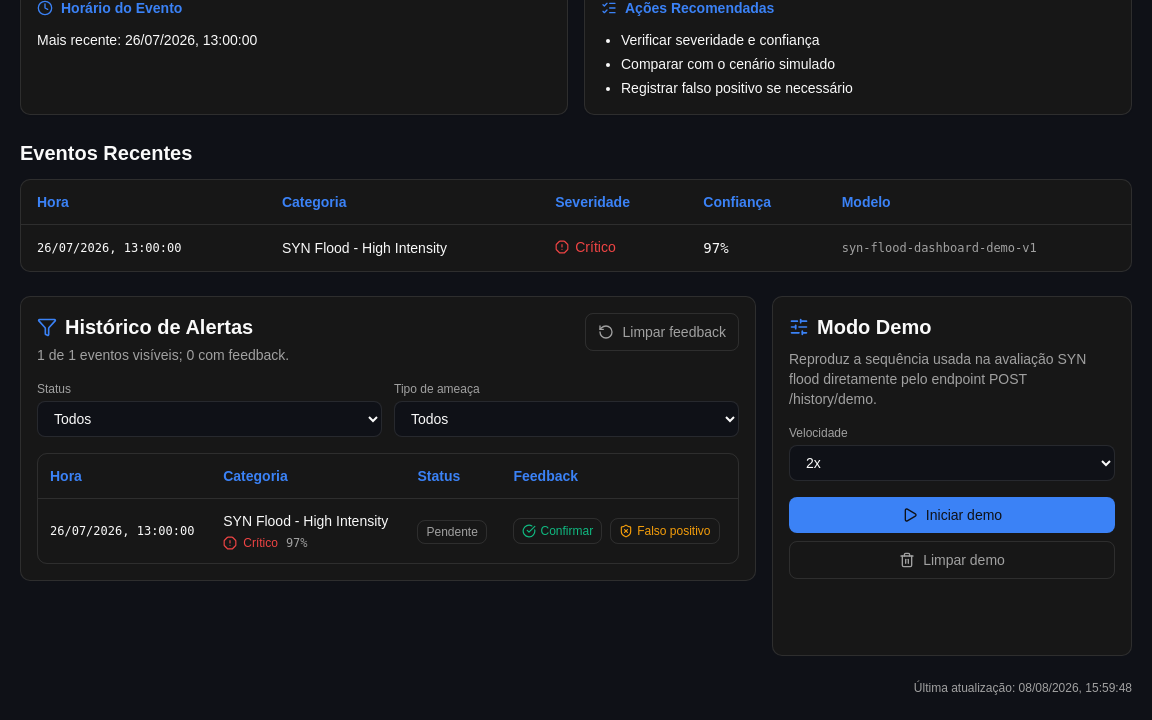
it: App › permite registrar feedback local no historico
(page scrolled)
Check: the heading "Histórico de Alertas" is shown, box [37,313,289,341]
Click the button "Confirmar" at (558, 531), box [514,518,602,544]
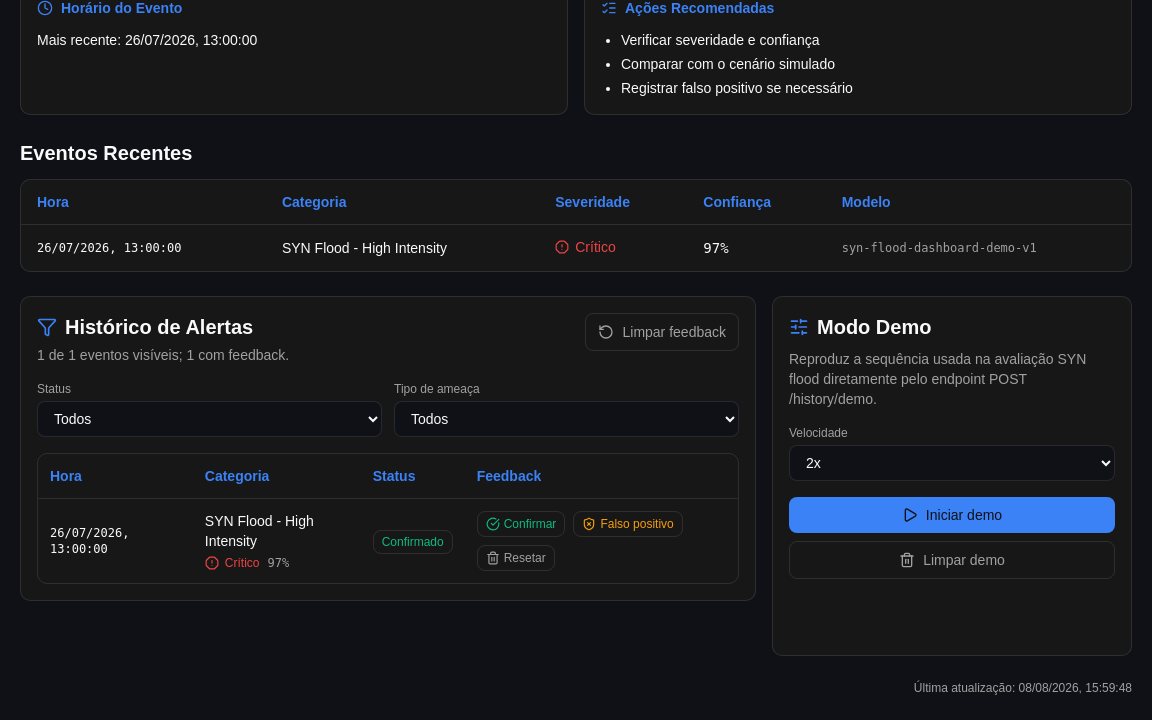
Check: the text "Confirmado" is shown, box [373,530,453,554]
